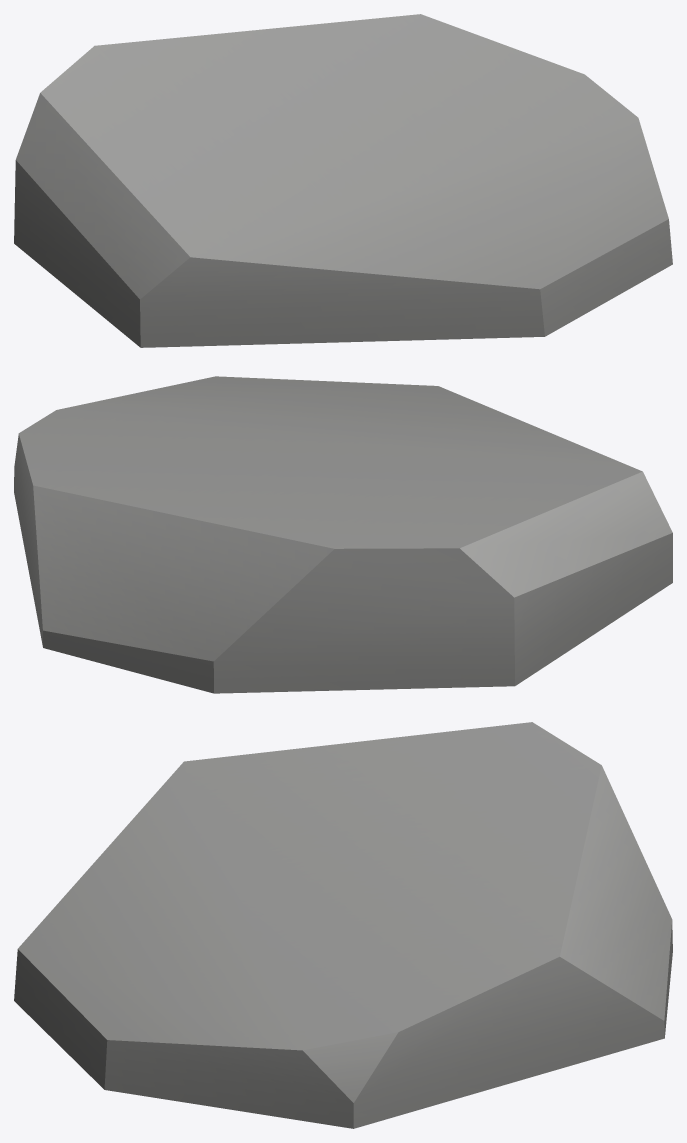
Rendered from Cavern_RockSml-02.fbx.
3 views of the same model, one above another, from view 1: azimuth 30°, elevation 25°; view 2: azimuth 150°, elevation 25°; view 3: azimuth 270°, elevation 25° (orthographic). The views are drawn at different scales.
Parts seen in each view (by area): view 1: Cavern_RockSml-02; view 2: Cavern_RockSml-02; view 3: Cavern_RockSml-02.
Boxes of the visible parts, x1=… form: Cavern_RockSml-02: x1=14, y1=14, x2=672, y2=347; Cavern_RockSml-02: x1=14, y1=376, x2=672, y2=693; Cavern_RockSml-02: x1=14, y1=722, x2=672, y2=1128.
Size of the model in its own units: 94.67 by 21.6 by 90.03.
1 material, 1 textured.
